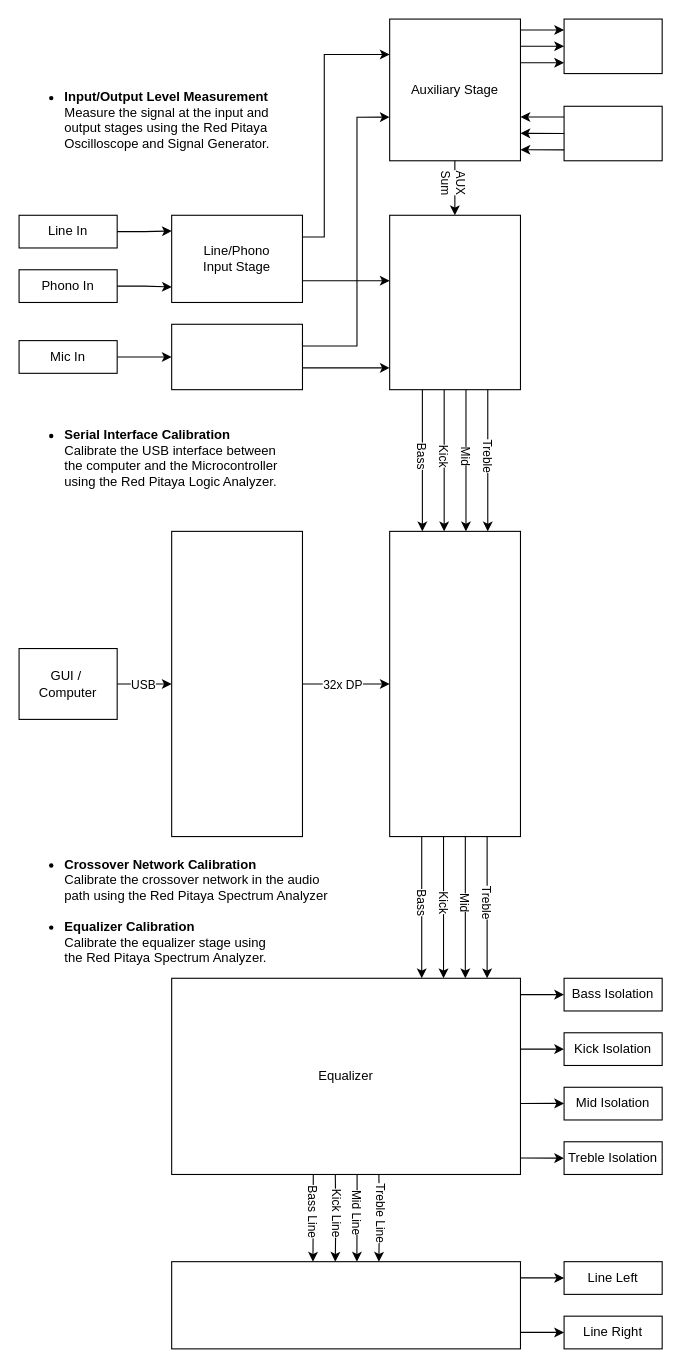
Image size: 681x1368. Some labels were removed from this diagram. The box of each missing label's shape, as (x1, y1, x2, y2) in pixels:
AUX Return: (563, 105, 662, 161)
AUX Send: (563, 18, 662, 74)
Crossover: (389, 530, 520, 837)
Kill Switch / Splitter: (389, 214, 520, 390)
Mic Input Stage / EQ: (171, 323, 302, 390)
Microcontroller / Digital Potentiometer: (171, 530, 302, 837)
Output Stage / VU Meter: (171, 1261, 520, 1349)
